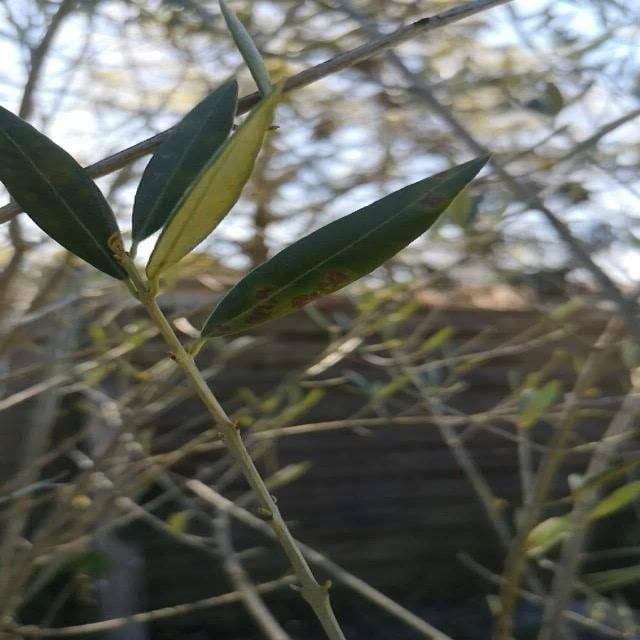OlivePeacockSpot: (192, 157, 488, 350)
